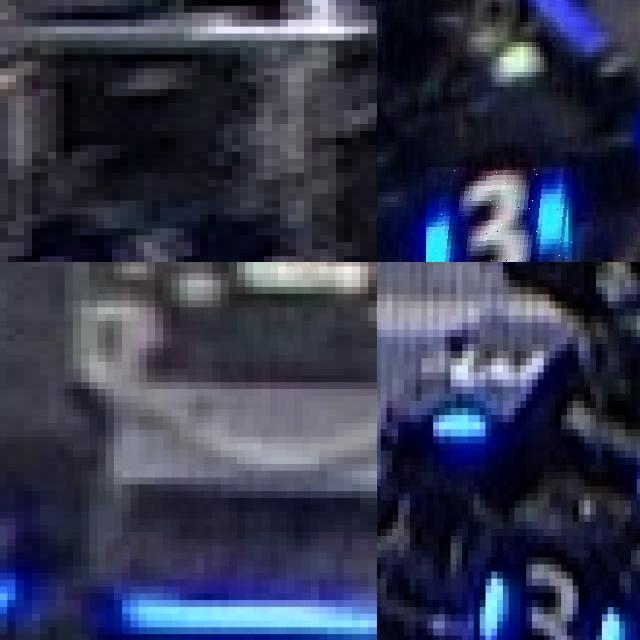B3: (416, 316, 555, 450), (473, 543, 619, 640), (426, 167, 572, 262)
